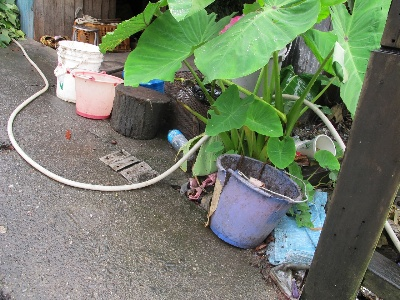bottle: (165, 126, 196, 161)
bucket: (206, 152, 308, 251), (54, 39, 105, 105), (66, 66, 125, 121), (297, 134, 338, 161)
